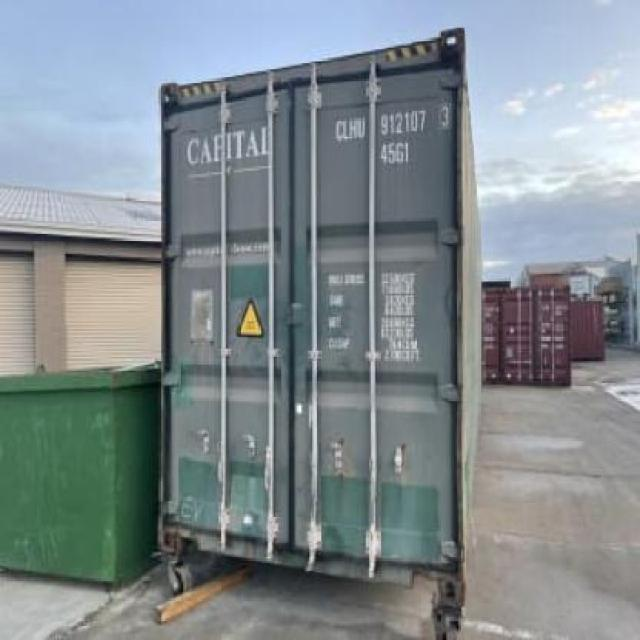ISO: (381, 140, 417, 165)
container_number: (330, 109, 450, 138)
